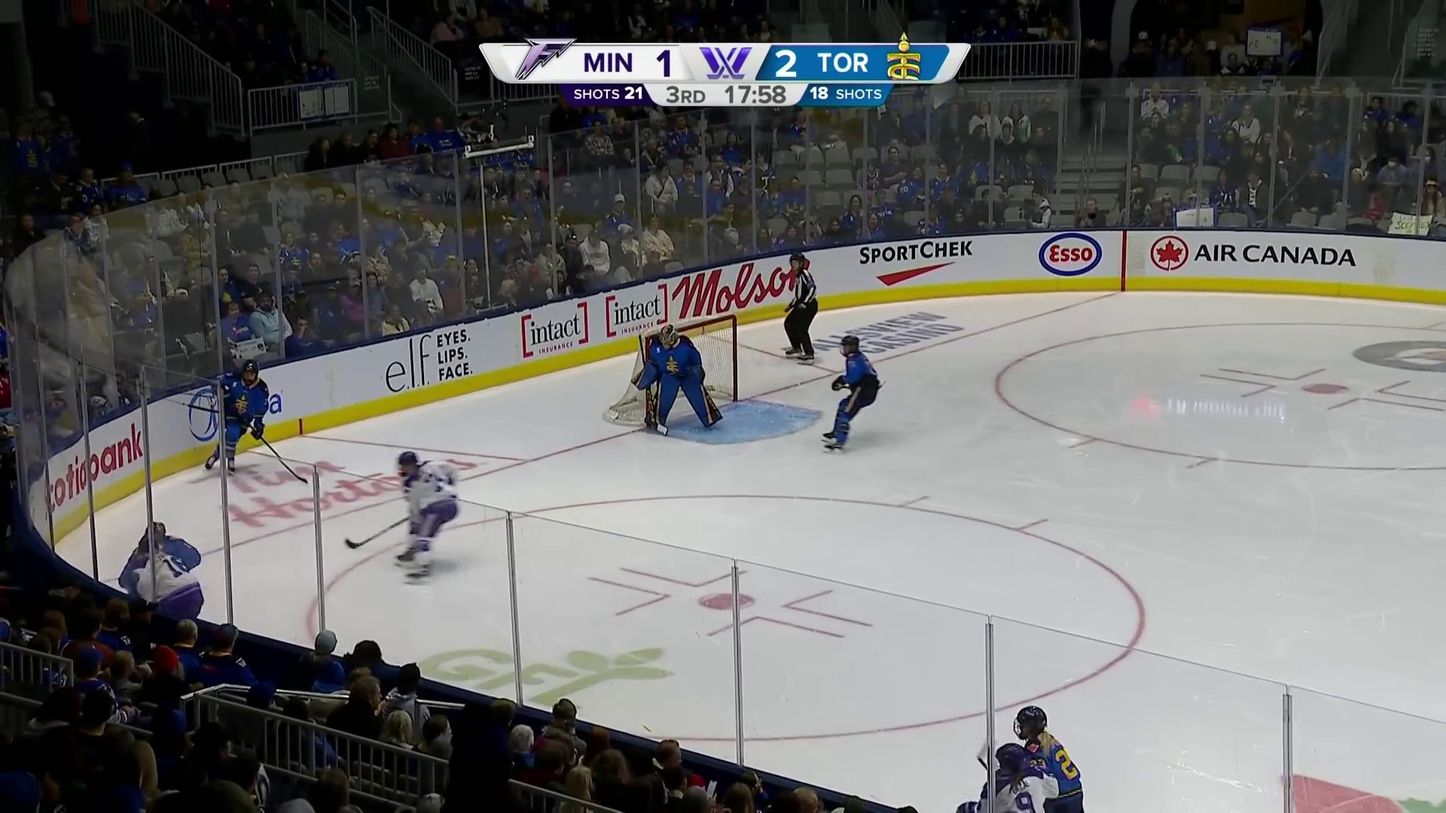goaltender: (629, 324, 726, 430)
player: (390, 451, 460, 585), (816, 333, 880, 454), (205, 358, 269, 477)
referee: (779, 253, 820, 364)
